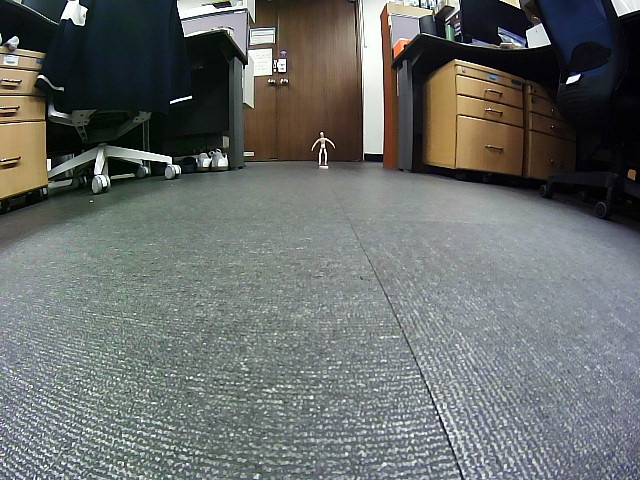person: (311, 131, 335, 165)
